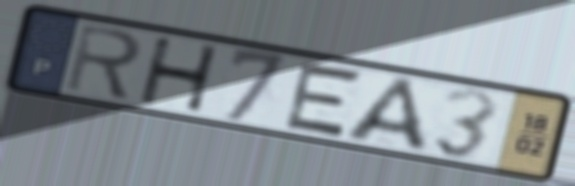3: (430, 86, 507, 161)
7: (225, 43, 292, 126)
A: (339, 74, 434, 157)
E: (279, 59, 369, 141)
H: (137, 35, 223, 115)
R: (61, 21, 145, 103)
